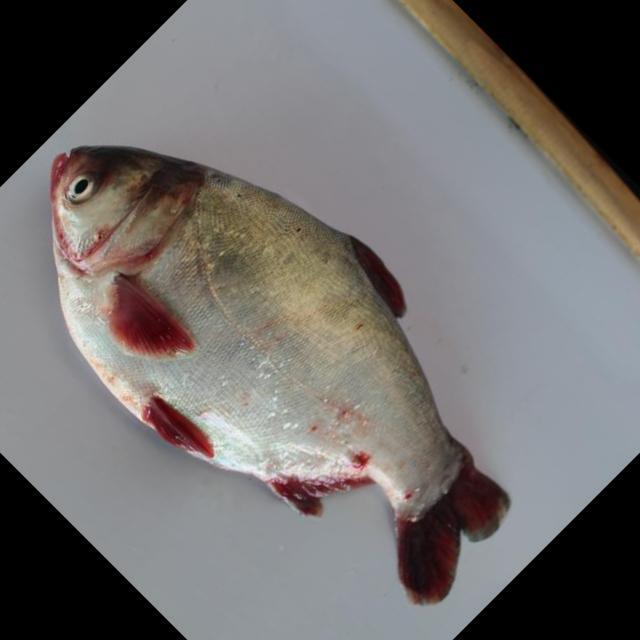SilverCarp: (52, 131, 553, 593)
